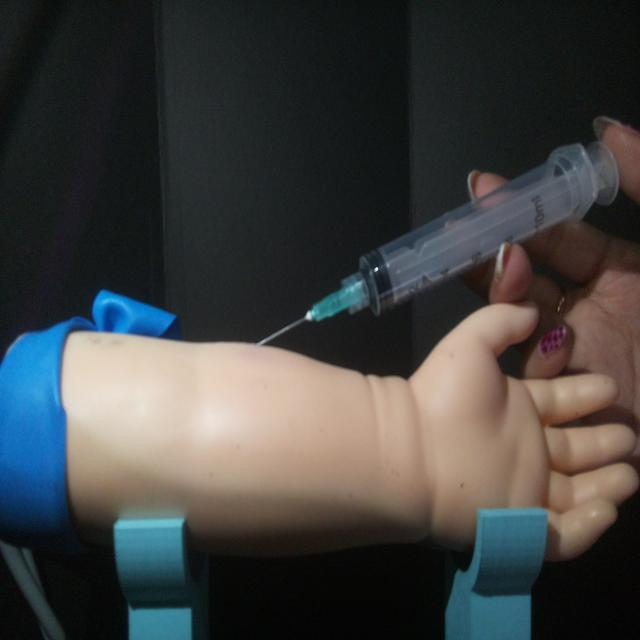27deg: (250, 133, 622, 351)
